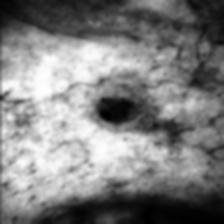Potentially Malignant Skin Tumors: (92, 96, 137, 124)
